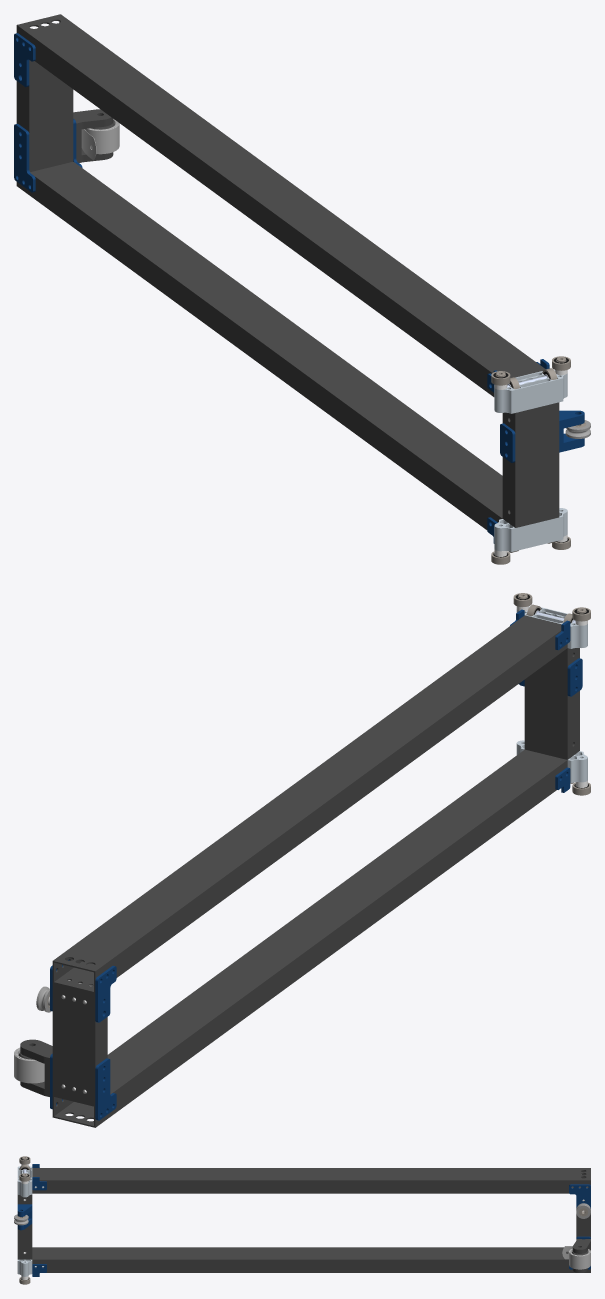
The picture shows the model from 3 angles, top to bottom: view 1: azimuth 30°, elevation 25°; view 2: azimuth 150°, elevation 25°; view 3: azimuth 270°, elevation 25°; orthographic projection. The views are drawn at different scales.
Visible parts, largest first — view 1: Tube 2"x1"x38.25" (×2), Tube 2"x1"x5" (×2), WCP-0199-001 Rev2 (×2), Part 8, Part 1, Part 3, Part 9, Part 14; view 2: Tube 2"x1"x38.25" (×2), Tube 2"x1"x5" (×2), Part 3, Part 8, Part 9, WCP-0199-001 Rev2, Part 1; view 3: Tube 2"x1"x38.25" (×2), Tube 2"x1"x5" (×2), WCP-0199-001 Rev2 (×2), Part 1, Part 6, Part 3, Part 14.
Boxes of the visible parts, x1,y1,x2,y2 form: Tube 2"x1"x38.25" (×2): (16, 14, 545, 529); Tube 2"x1"x5" (×2): (16, 60, 559, 527); WCP-0199-001 Rev2 (×2): (494, 370, 567, 551); Part 8: (14, 123, 35, 192); Part 1: (81, 119, 119, 160); Part 3: (73, 109, 113, 162); Part 9: (14, 33, 35, 87); Part 14: (559, 410, 584, 452); Tube 2"x1"x38.25" (×2): (52, 615, 567, 1127); Tube 2"x1"x5" (×2): (52, 648, 579, 1105); Part 3: (20, 1039, 52, 1096); Part 8: (95, 1058, 116, 1120); Part 9: (95, 965, 116, 1022); WCP-0199-001 Rev2: (516, 606, 587, 648); Part 1: (14, 1047, 44, 1083); Tube 2"x1"x38.25" (×2): (32, 1168, 590, 1272); Tube 2"x1"x5" (×2): (17, 1194, 590, 1259); WCP-0199-001 Rev2 (×2): (17, 1166, 44, 1276); Part 1: (562, 1246, 590, 1269); Part 6: (569, 1184, 590, 1208); Part 3: (572, 1239, 590, 1272); Part 14: (17, 1204, 32, 1230).
Bounding box in the file's own units: 0.1238 × 0.2079 × 1.
